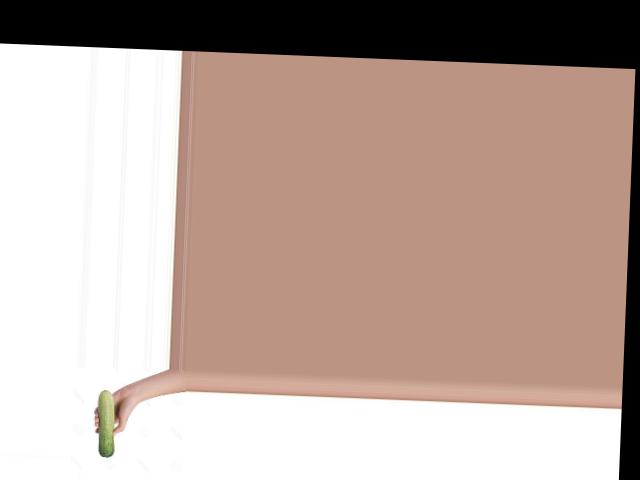cucumber: (97, 388, 118, 458)
